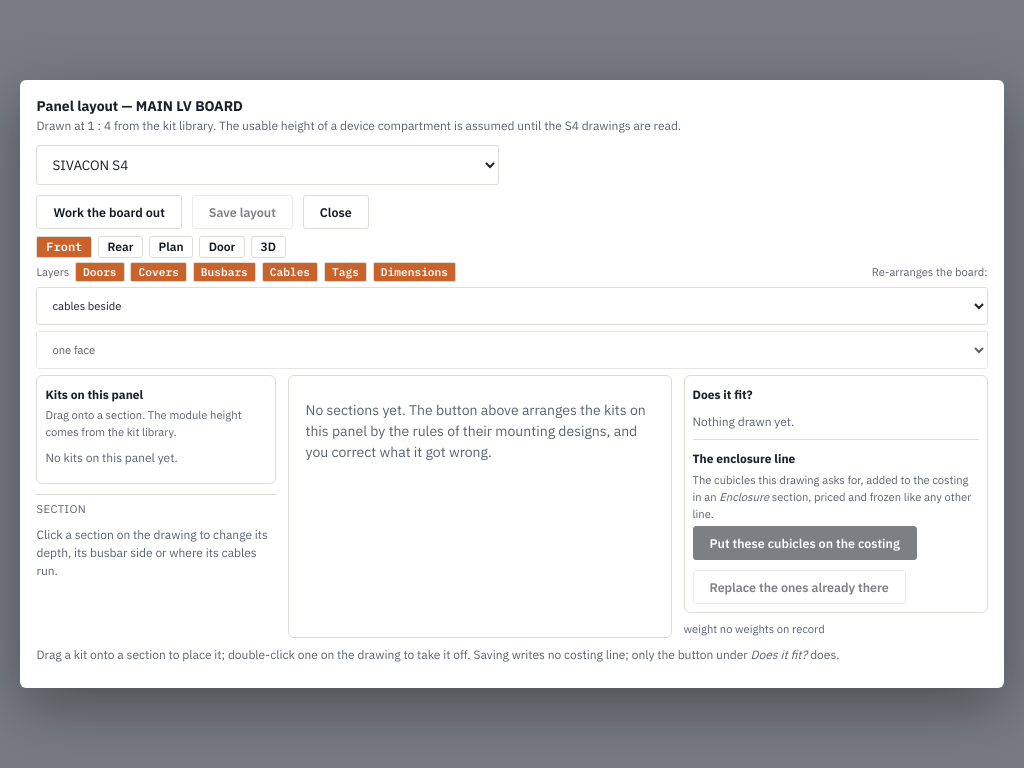
it: the panel layout pop-up › names the kits it cannot place rather than dropping them
Click the button "Work the board out" at (109, 212), box [36,195,182,229]
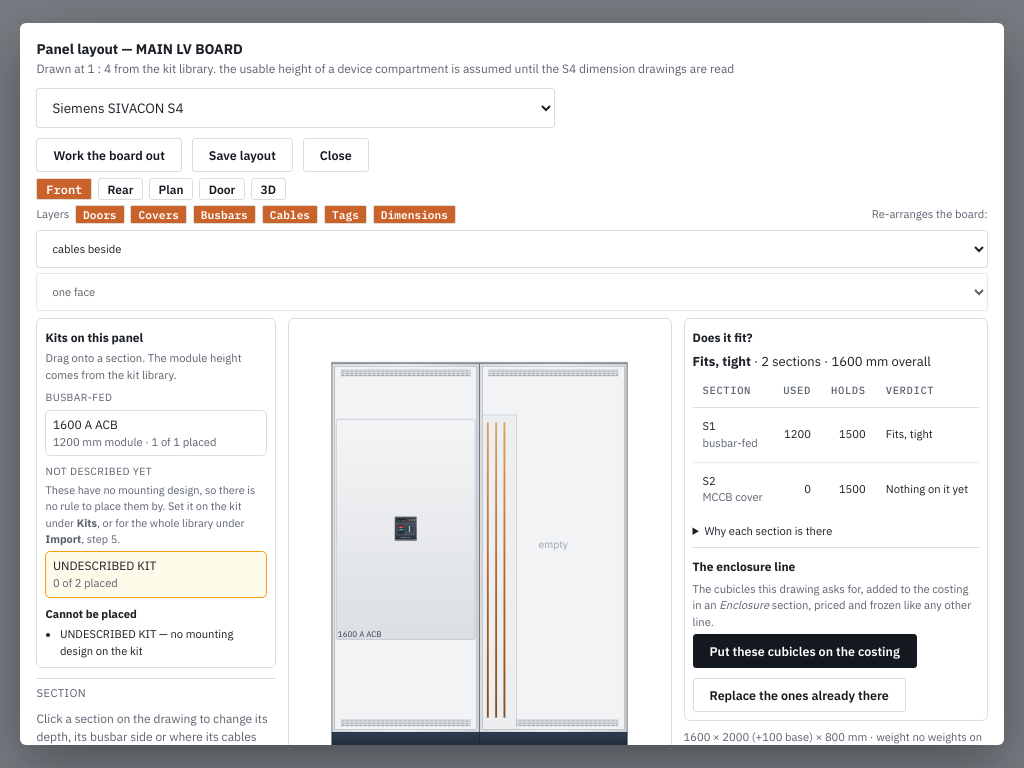
expect the list item "UNDESCRIBED KIT — no mounting design on the kit" is shown: met, box [60,627,233,658]
